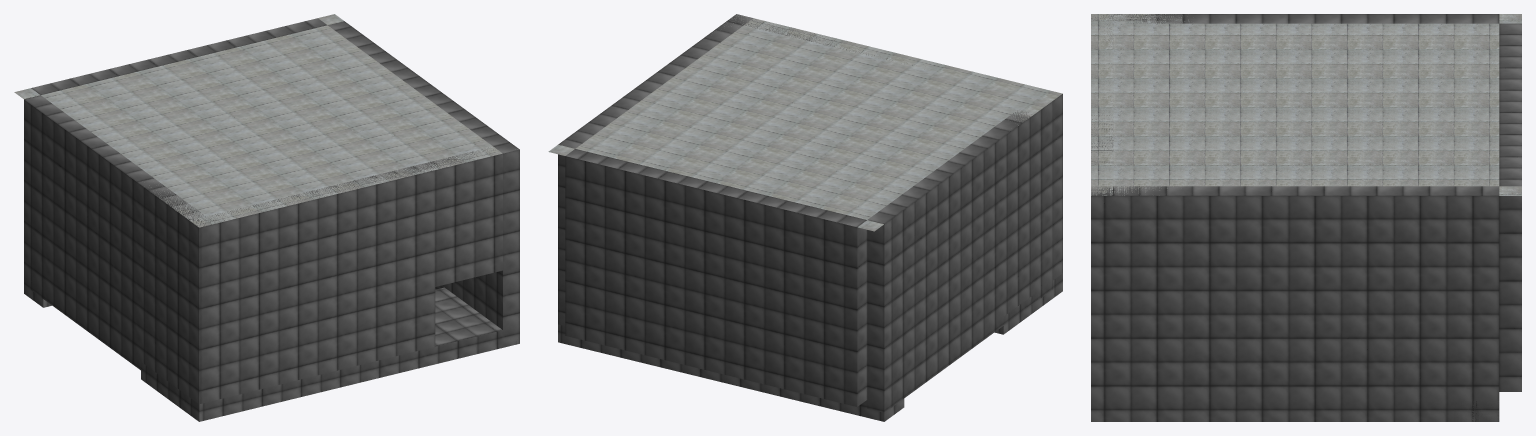
File: Level_13.fbx
3 renders of one model, left to right at view 1: azimuth 30°, elevation 25°; view 2: azimuth 150°, elevation 25°; view 3: azimuth 270°, elevation 25°, orthographic. The views are drawn at different scales.
Parts seen in each view (by area): view 1: NoTeleport, Wall; view 2: NoTeleport, Wall; view 3: NoTeleport, Wall.
Part boxes in pixels (bbox=[...]): NoTeleport: bbox=[24, 18, 519, 421]; Wall: bbox=[14, 14, 517, 227]; NoTeleport: bbox=[558, 14, 1062, 421]; Wall: bbox=[548, 14, 1062, 231]; NoTeleport: bbox=[1091, 14, 1521, 421]; Wall: bbox=[1091, 14, 1521, 195].
Bounding box in the file's own units: 19 × 19 × 11.
